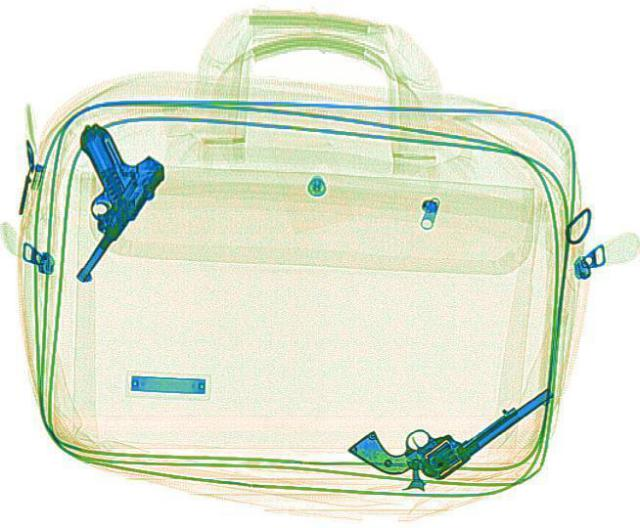Gun: (344, 340, 558, 497), (0, 117, 179, 283)
